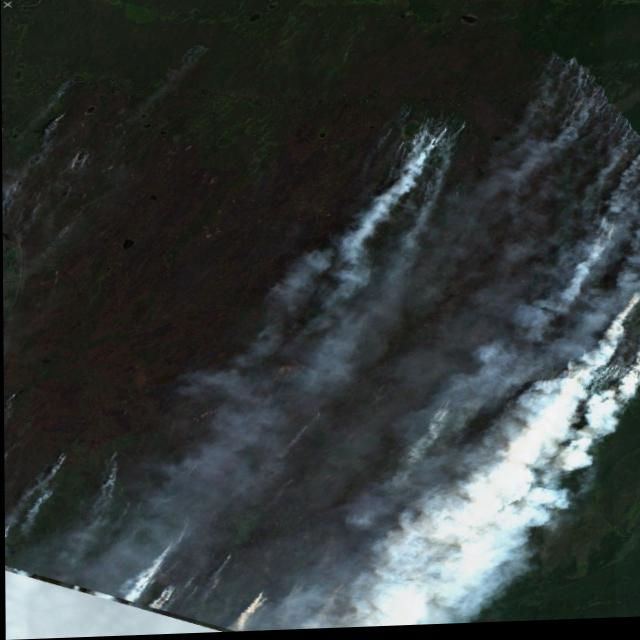fire: (0, 25, 640, 640)
